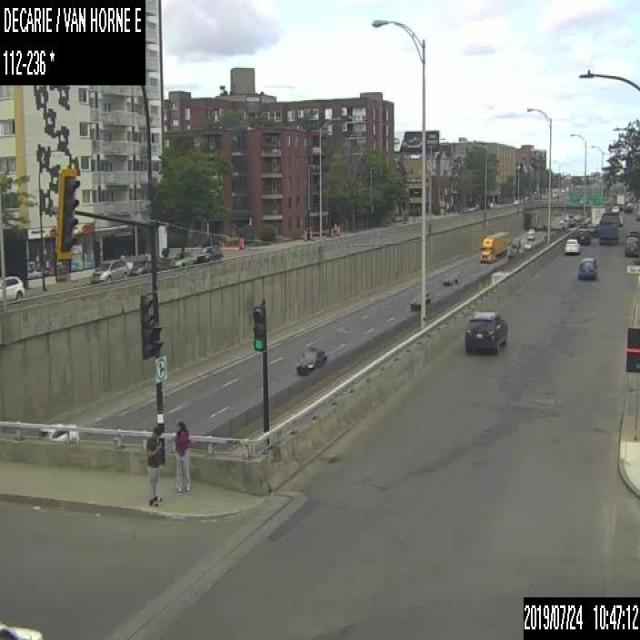construction: (240, 236, 244, 248), (237, 236, 241, 248), (303, 230, 306, 240), (336, 226, 339, 234)
pedestrian: (144, 427, 162, 505), (173, 420, 190, 492)
vehicle: (462, 310, 507, 354), (89, 257, 128, 283), (296, 345, 326, 375), (478, 231, 508, 260), (0, 618, 43, 638), (38, 421, 78, 441), (596, 209, 618, 244), (0, 274, 24, 302), (586, 206, 604, 234), (194, 244, 223, 261), (128, 260, 157, 276), (409, 288, 430, 310), (168, 251, 196, 267), (578, 256, 596, 279), (624, 236, 639, 256), (576, 228, 590, 244), (564, 238, 579, 252), (443, 272, 456, 285), (625, 227, 639, 237), (526, 228, 536, 240), (524, 240, 532, 249)
